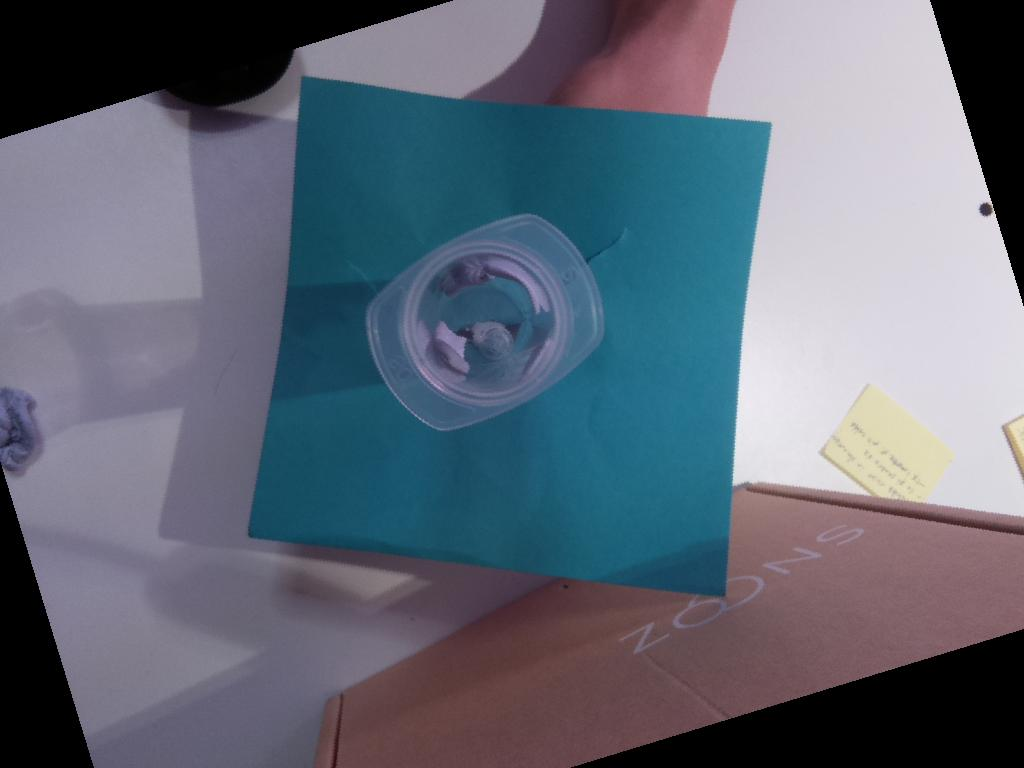dirty: (366, 210, 611, 429)
